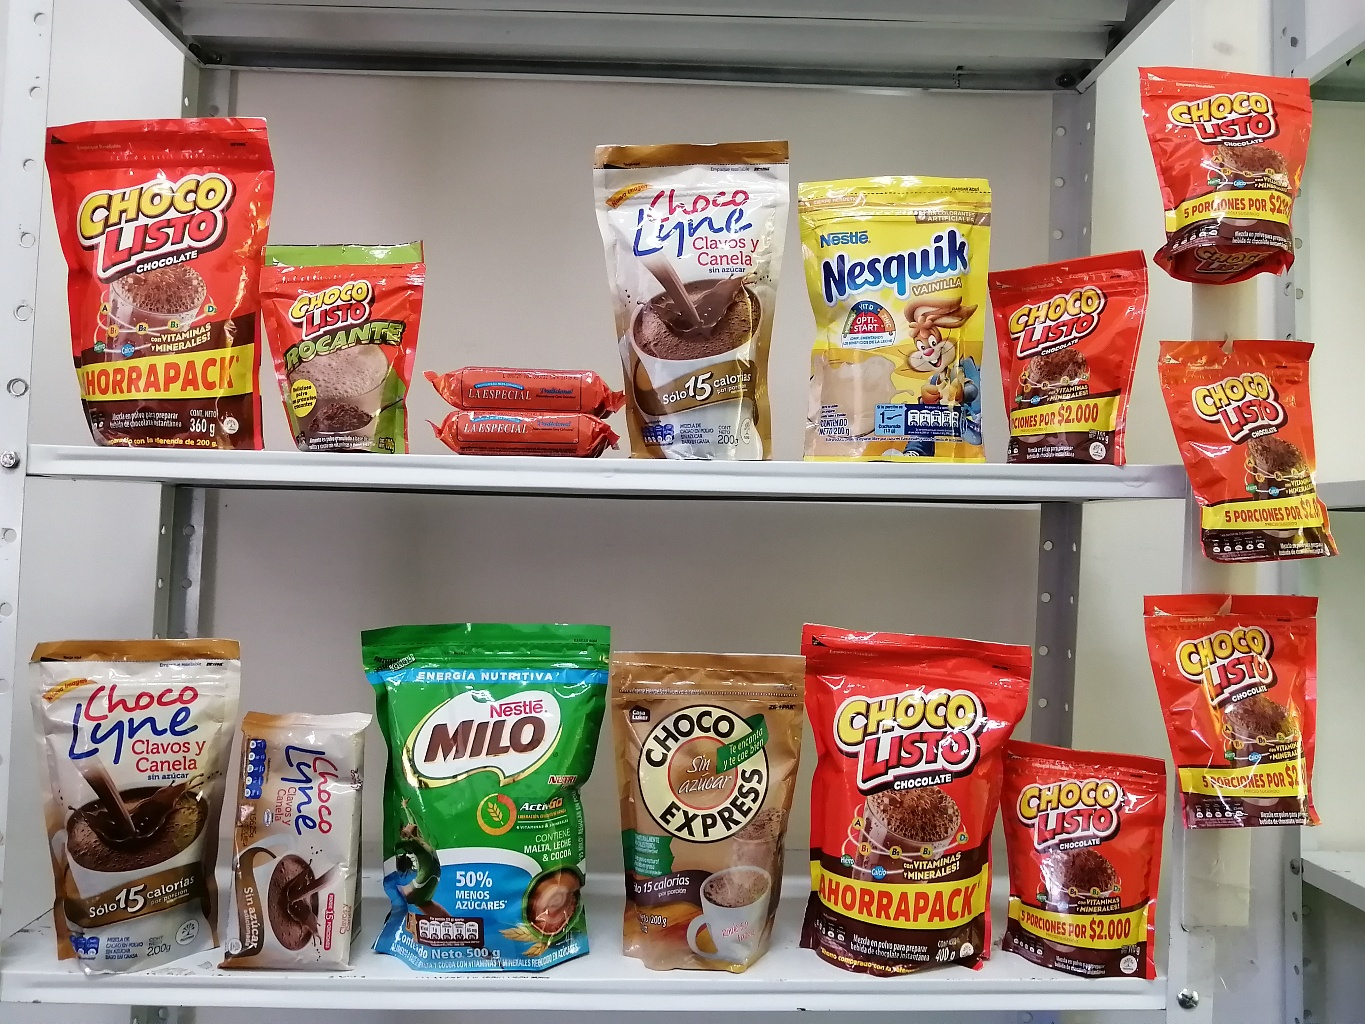COL0170102DYP10000: (253, 222, 440, 460)
COL0170103DYP10000: (1138, 51, 1321, 293)
COL0170103DYP36000: (31, 97, 272, 444)
COL0170103DYP40000: (804, 601, 1036, 977)
COL0170205DYP50000: (371, 603, 606, 969)
COL0170306DYP20000: (788, 165, 989, 463)
